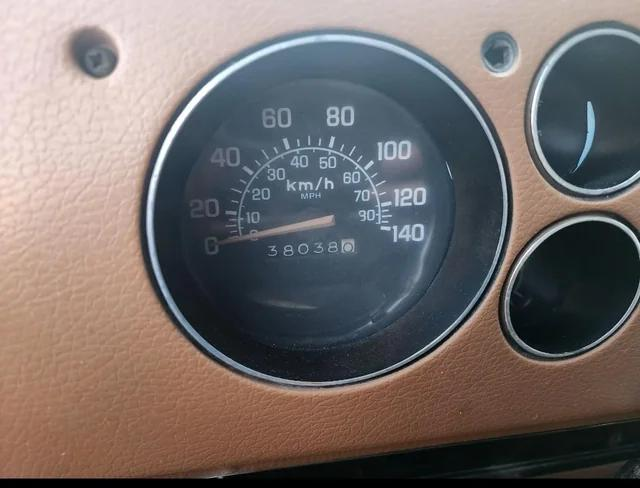odometer: (263, 237, 357, 260)
